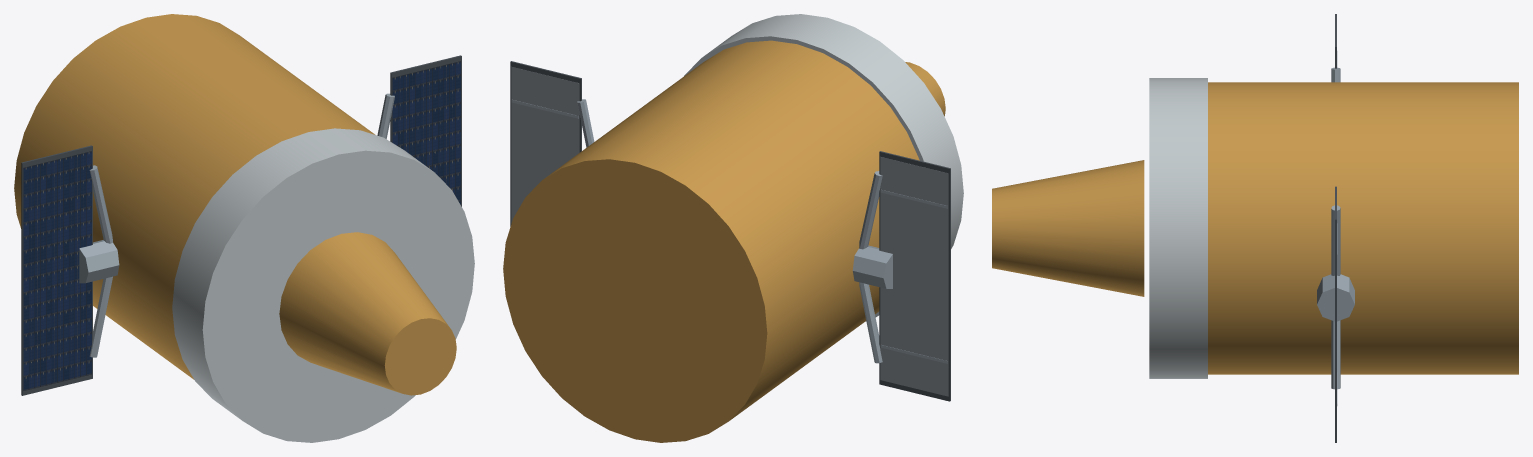
File: ref-apple-12545.glb
3 views of the same model, side by side, from view 1: azimuth 30°, elevation 25°; view 2: azimuth 150°, elevation 25°; view 3: azimuth 270°, elevation 25° (orthographic). The views are drawn at different scales.
Visible parts, largest first — view 1: Equipment flange, Service barrel, Solar cell panel (×2), Axial antenna horn, Solar panel frame (×2), Array yoke (×3), Array drive; view 2: Service barrel, Rear array substrate (×2), Equipment flange, Solar panel frame (×2), Array yoke (×3), Array drive, Axial antenna horn; view 3: Service barrel, Equipment flange, Axial antenna horn, Array drive, Array yoke (×2), Solar panel frame.
Part boxes in pixels (bbox=[...]): Equipment flange: bbox=[172, 128, 474, 442]; Service barrel: bbox=[14, 14, 375, 379]; Solar cell panel (×2): bbox=[23, 61, 460, 390]; Axial antenna horn: bbox=[279, 232, 456, 395]; Solar panel frame (×2): bbox=[21, 55, 461, 395]; Array yoke (×3): bbox=[89, 93, 394, 357]; Array drive: bbox=[79, 240, 119, 283]; Service barrel: bbox=[503, 40, 919, 442]; Rear array substrate (×2): bbox=[511, 66, 948, 396]; Equipment flange: bbox=[684, 14, 963, 321]; Solar panel frame (×2): bbox=[510, 61, 950, 401]; Array yoke (×3): bbox=[577, 99, 882, 363]; Array drive: bbox=[852, 245, 892, 288]; Axial antenna horn: bbox=[905, 62, 945, 116]; Service barrel: bbox=[1208, 82, 1518, 374]; Equipment flange: bbox=[1149, 78, 1207, 378]; Axial antenna horn: bbox=[992, 160, 1144, 296]; Array drive: bbox=[1317, 274, 1354, 321]; Array yoke (×2): bbox=[1331, 205, 1340, 389]; Solar panel frame: bbox=[1335, 186, 1336, 442].
Bounding box in the file's own units: 2 × 1.24 × 2.16.
Materials: 6 (1 with a texture image).
